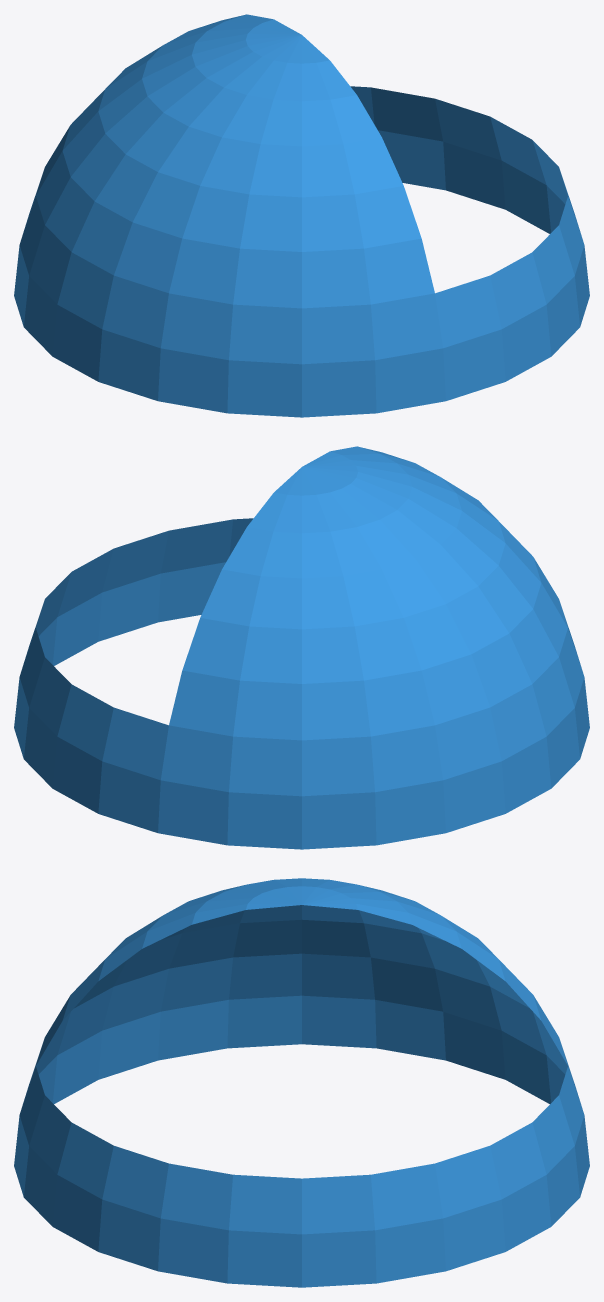
3 views of the same model, one above another, from view 1: azimuth 30°, elevation 25°; view 2: azimuth 150°, elevation 25°; view 3: azimuth 270°, elevation 25° (orthographic).
Visible parts, largest first — view 1: Circle; view 2: Circle; view 3: Circle.
Part boxes in pixels (left/top/right/bottom): Circle: left=14, top=14, right=589, bottom=417; Circle: left=14, top=446, right=589, bottom=849; Circle: left=14, top=878, right=589, bottom=1287.
Size of the model in its own units: 1.88 by 0.94 by 1.88.
